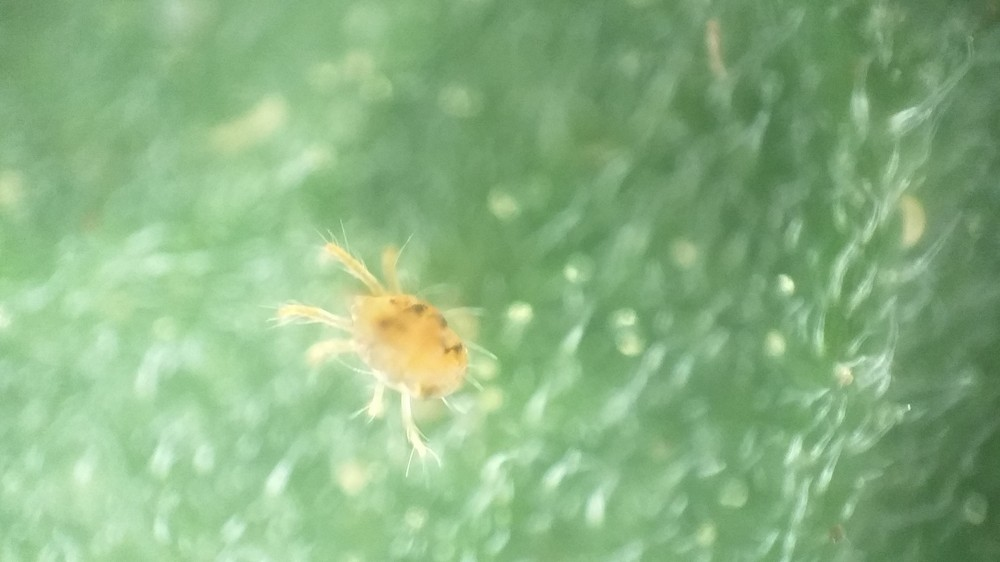Aracnido Rojo: (258, 223, 532, 476)
